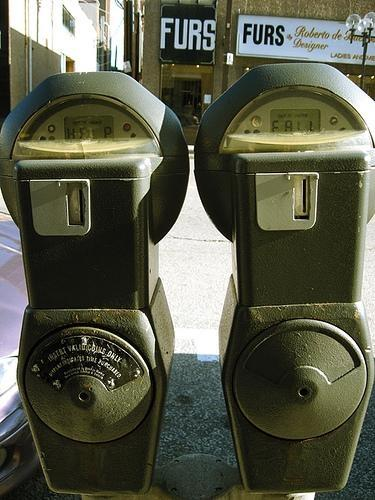car: (0, 189, 41, 499)
